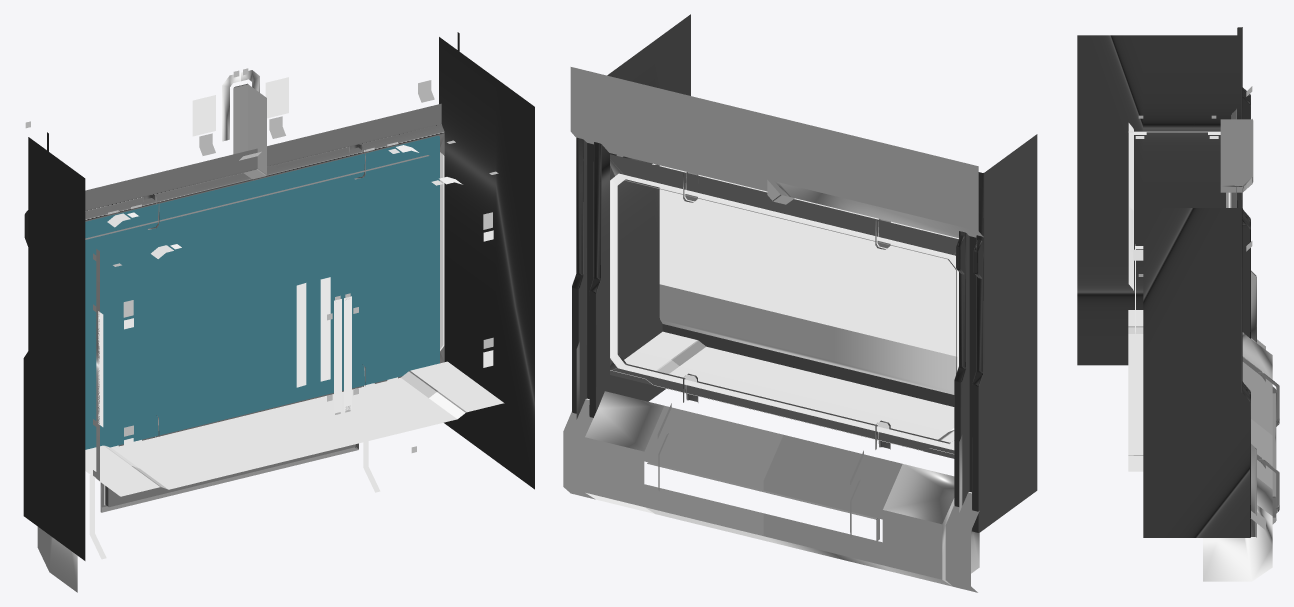
Rendered from roomlg_wall_straight_base_shopwindow_04x01x04_c.glb.
The picture shows the model from 3 angles, left to right: view 1: azimuth 30°, elevation 25°; view 2: azimuth 150°, elevation 25°; view 3: azimuth 270°, elevation 25°; orthographic projection. The views are drawn at different scales.
Size of the model in its own units: 4 by 4 by 1.87.
